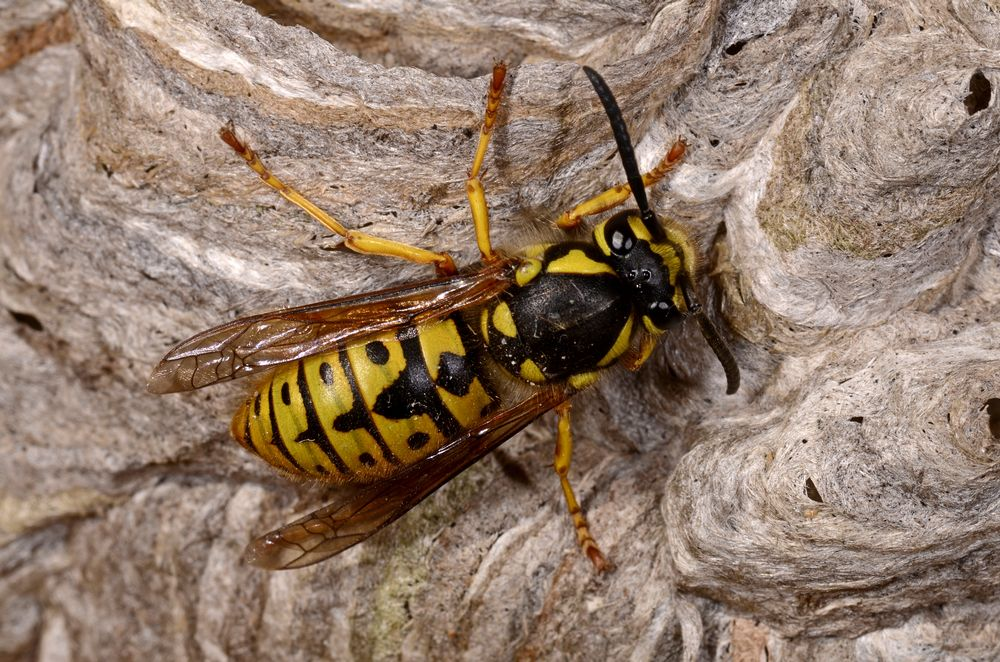chax: (122, 25, 793, 592)
